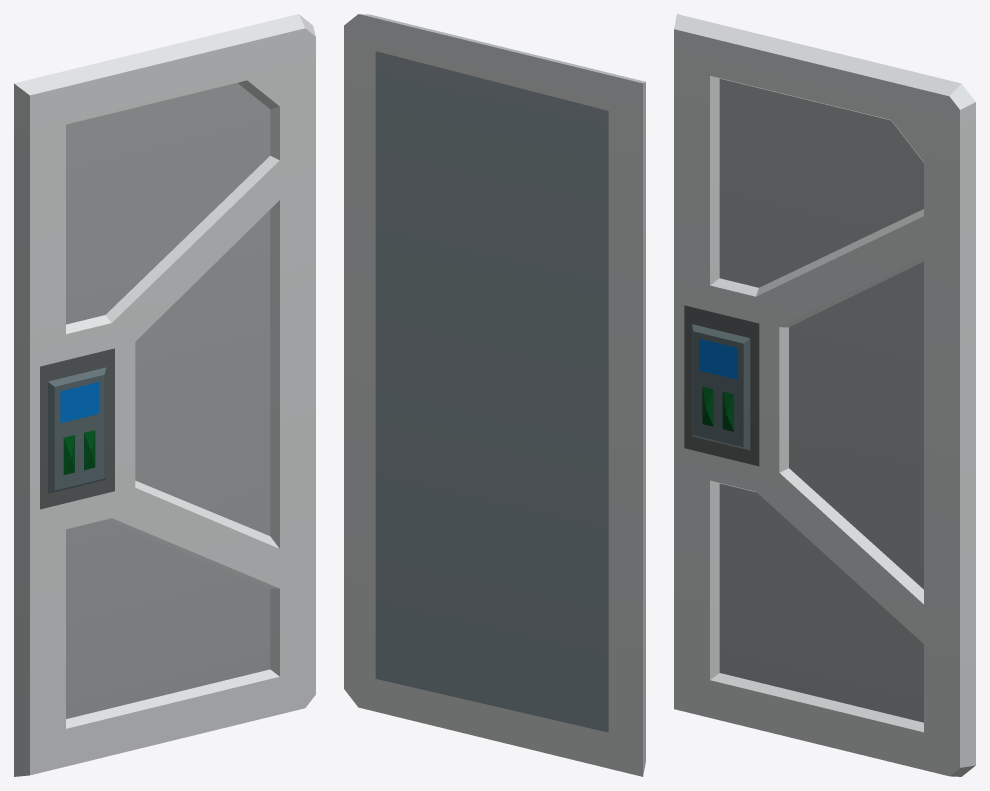
Rendered from Container_type_B_door_011.fbx.
The picture shows the model from 3 angles, left to right: view 1: azimuth 30°, elevation 25°; view 2: azimuth 150°, elevation 25°; view 3: azimuth 330°, elevation 25°; orthographic projection.
Visible parts, largest first — view 1: Container_type_B_door_011; view 2: Container_type_B_door_011; view 3: Container_type_B_door_011.
Part boxes in pixels (bbox=[...]): Container_type_B_door_011: bbox=[14, 14, 315, 776]; Container_type_B_door_011: bbox=[344, 14, 645, 776]; Container_type_B_door_011: bbox=[674, 14, 975, 776].
Bounding box in the file's own units: 92.5 × 7.6 × 205.
